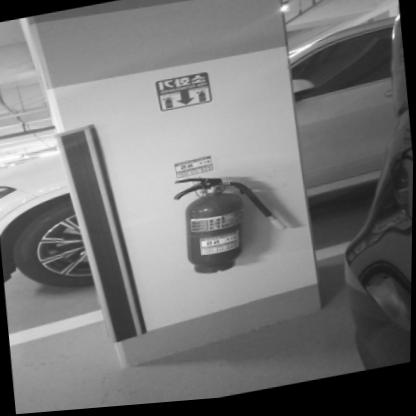FE: (170, 173, 247, 281)
